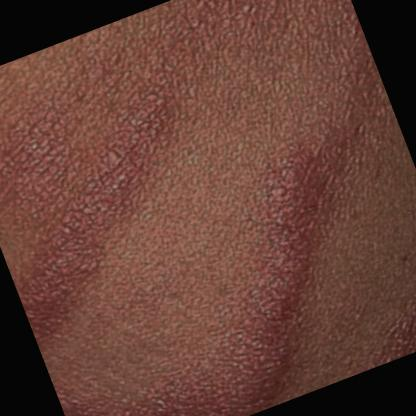Leprosy: (0, 31, 279, 337), (188, 65, 416, 399), (61, 322, 310, 416)
